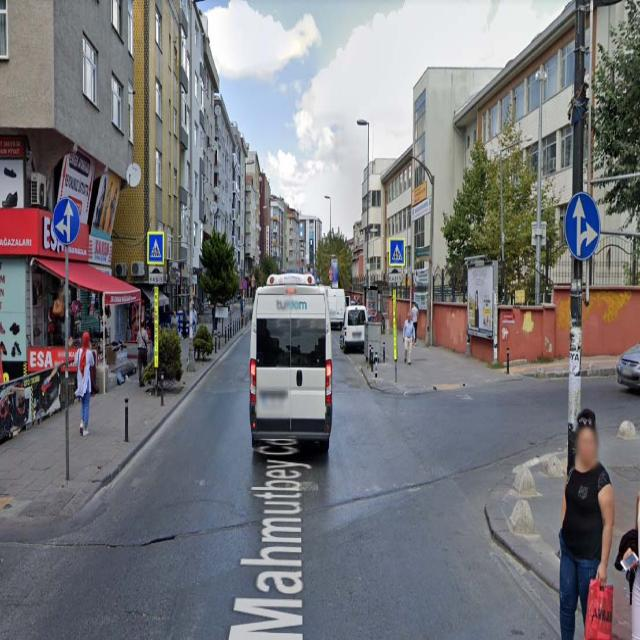ilerisag: (564, 192, 601, 262)
ilerisol: (53, 198, 80, 246)
